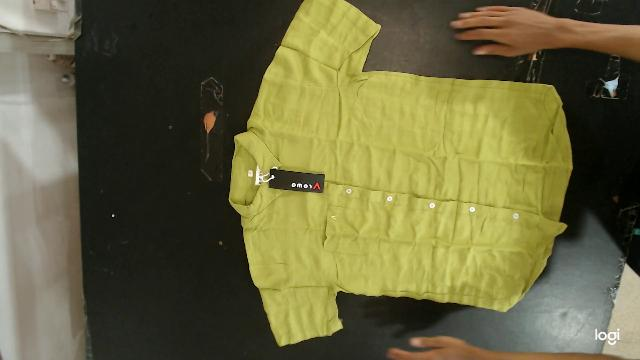new-garment: (229, 0, 572, 345)
